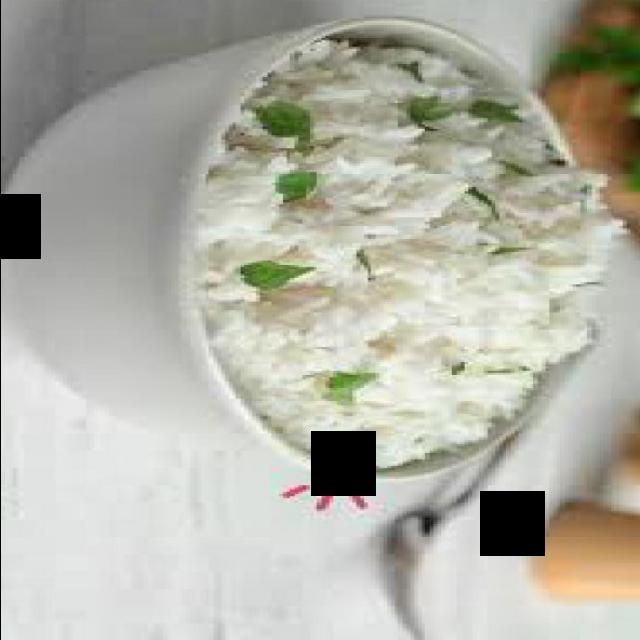rice: (194, 38, 628, 468)
